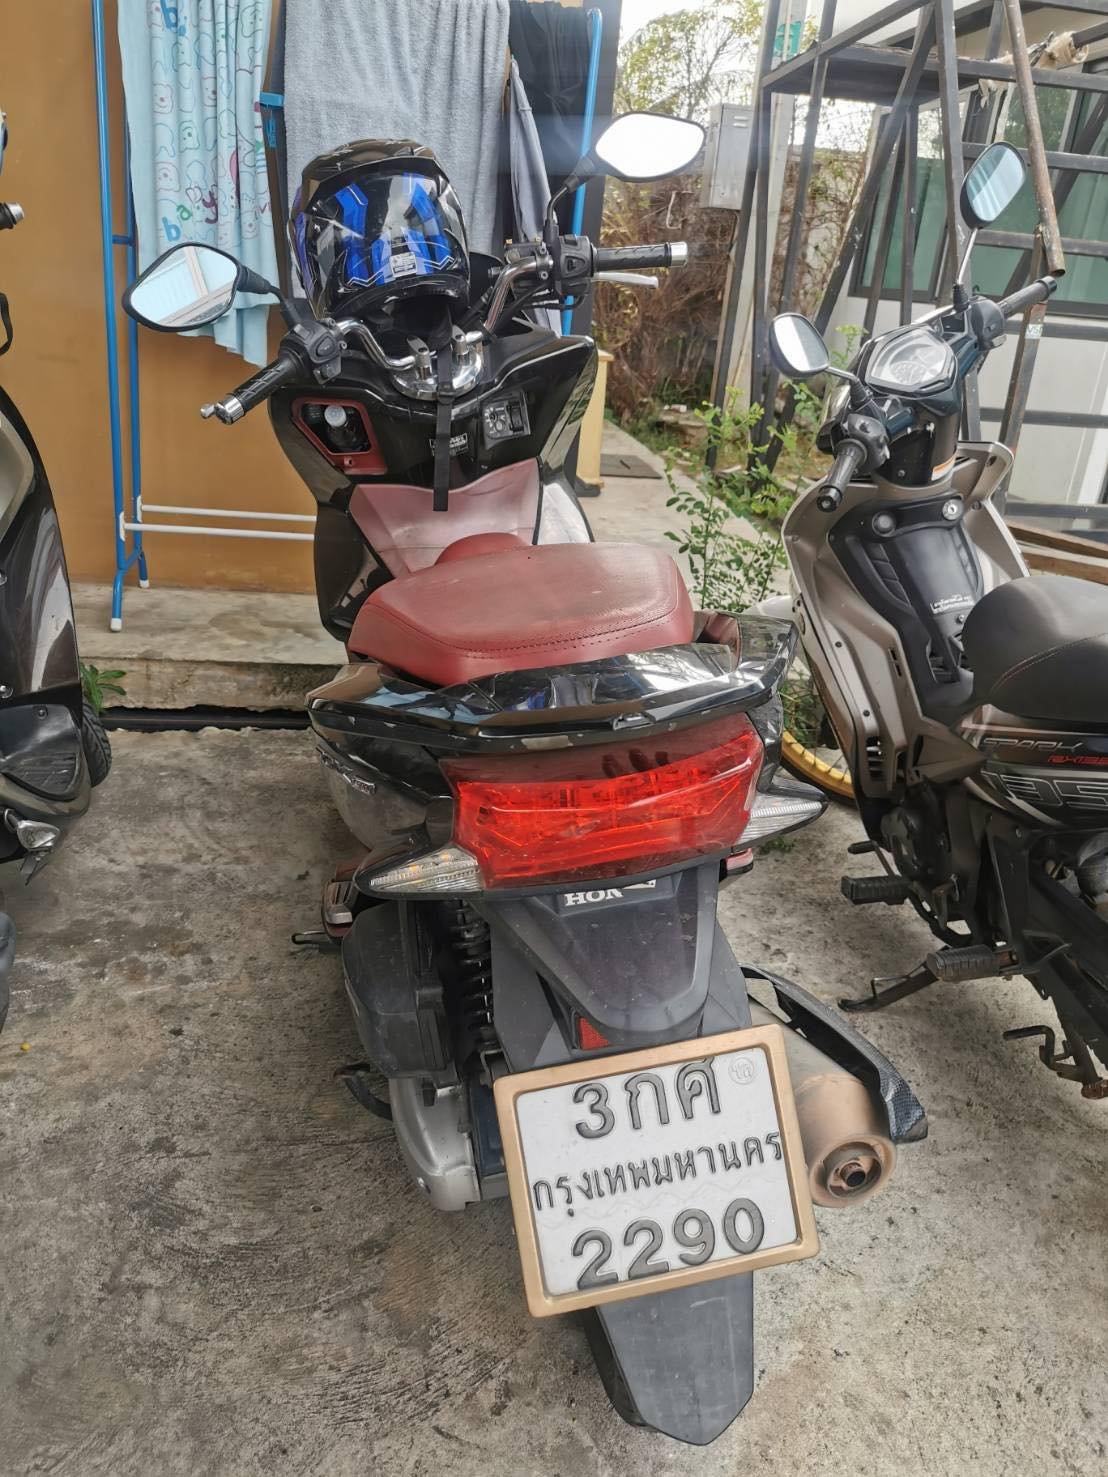line1: (566, 1055, 736, 1134)
line2: (523, 1131, 793, 1222)
line3: (561, 1202, 768, 1286)
